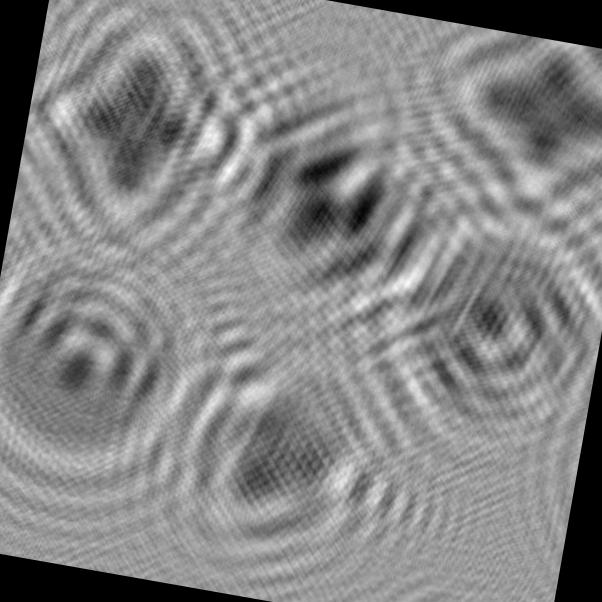U: (336, 174, 602, 503), (0, 229, 219, 520)
W: (188, 52, 469, 357)
X: (5, 0, 278, 284), (386, 16, 602, 249)
Y: (124, 315, 426, 602)
